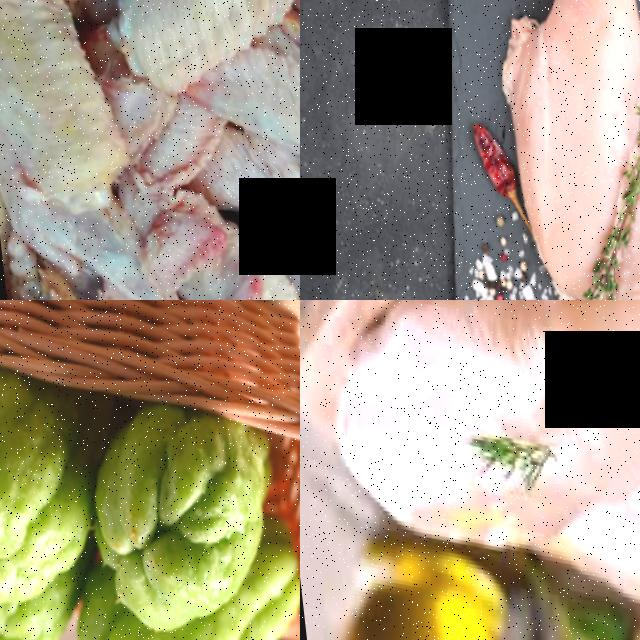chayote: (77, 414, 258, 609), (0, 336, 94, 599)
chicken breast: (300, 300, 631, 553), (442, 0, 640, 300)
chicken wing: (143, 0, 300, 232)
